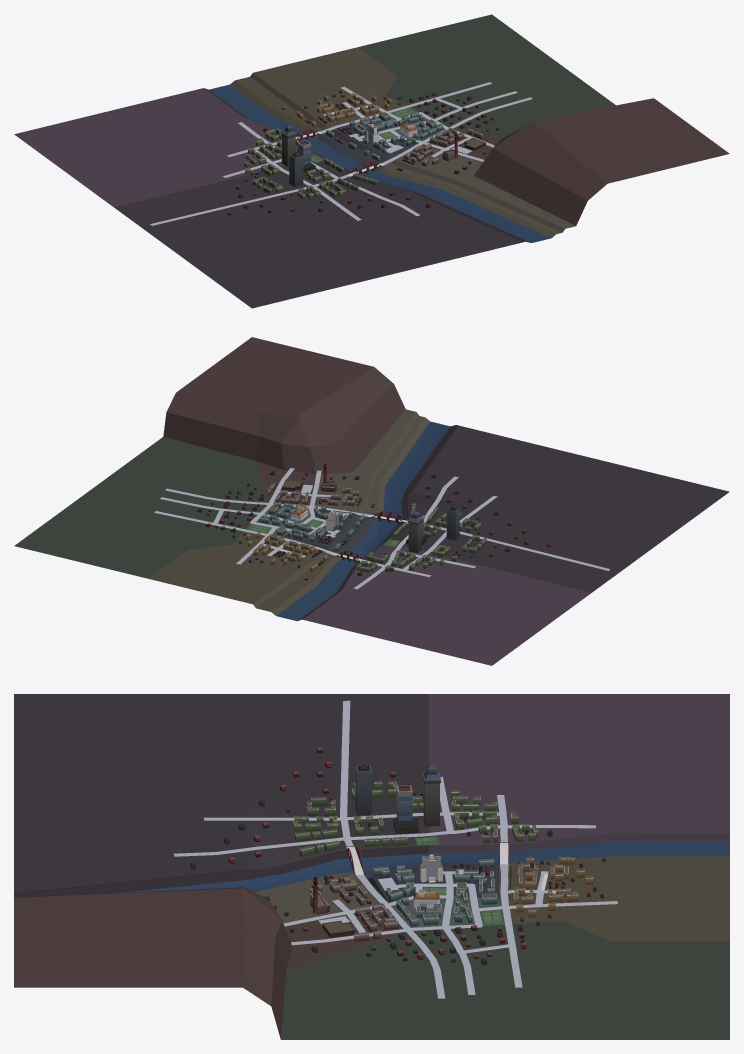
The model's file is City.fbx.
The picture shows the model from 3 angles, top to bottom: view 1: azimuth 30°, elevation 25°; view 2: azimuth 150°, elevation 25°; view 3: azimuth 270°, elevation 25°; orthographic projection. The views are drawn at different scales.
Visible parts, largest first — view 1: Ground.001; view 2: Ground.001; view 3: Ground.001.
Boxes of the visible parts, x1,y1,x2,y2 form: Ground.001: [14, 14, 729, 308]; Ground.001: [14, 337, 729, 665]; Ground.001: [14, 694, 729, 1039].
Bounding box in the file's own units: 22804 × 2206 × 19668.
